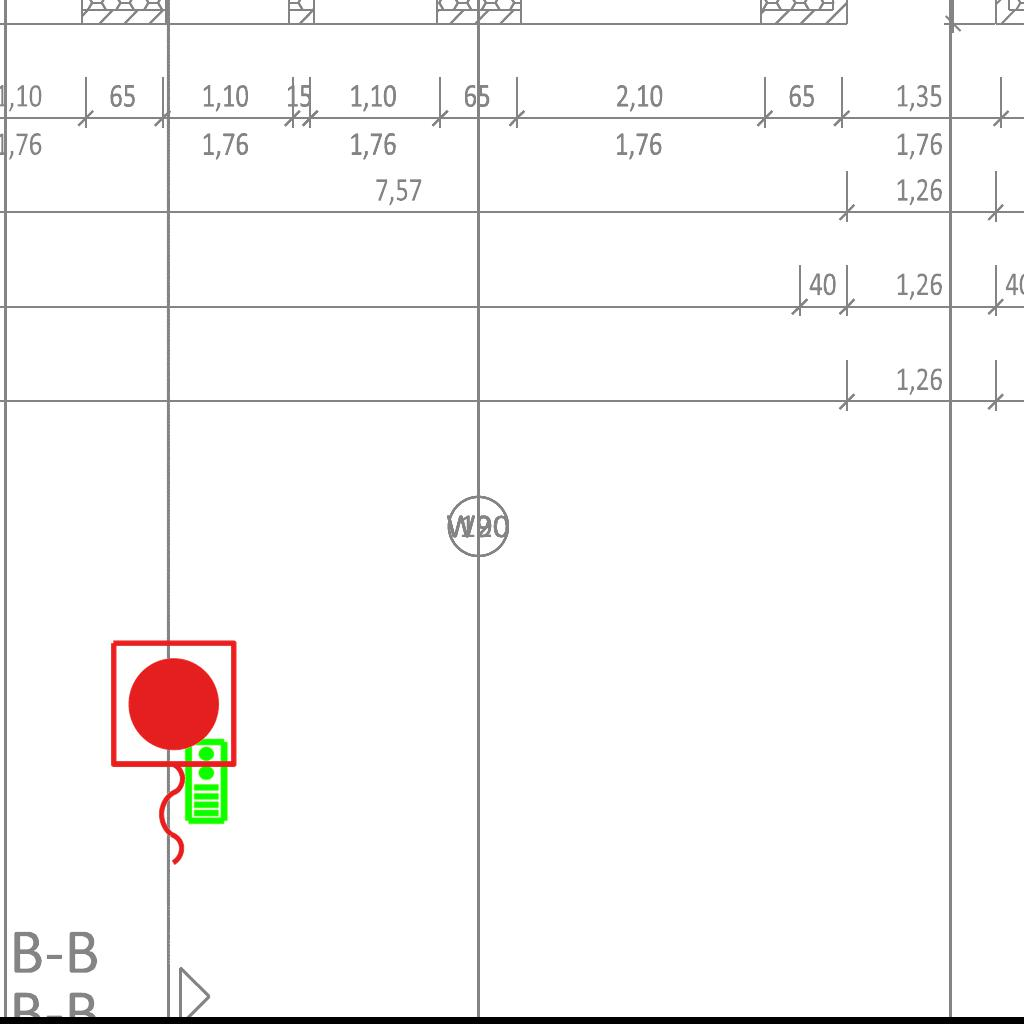Gegensprechanlage_mit_Video: (182, 737, 229, 825)
Zugtaster: (100, 632, 244, 876)
